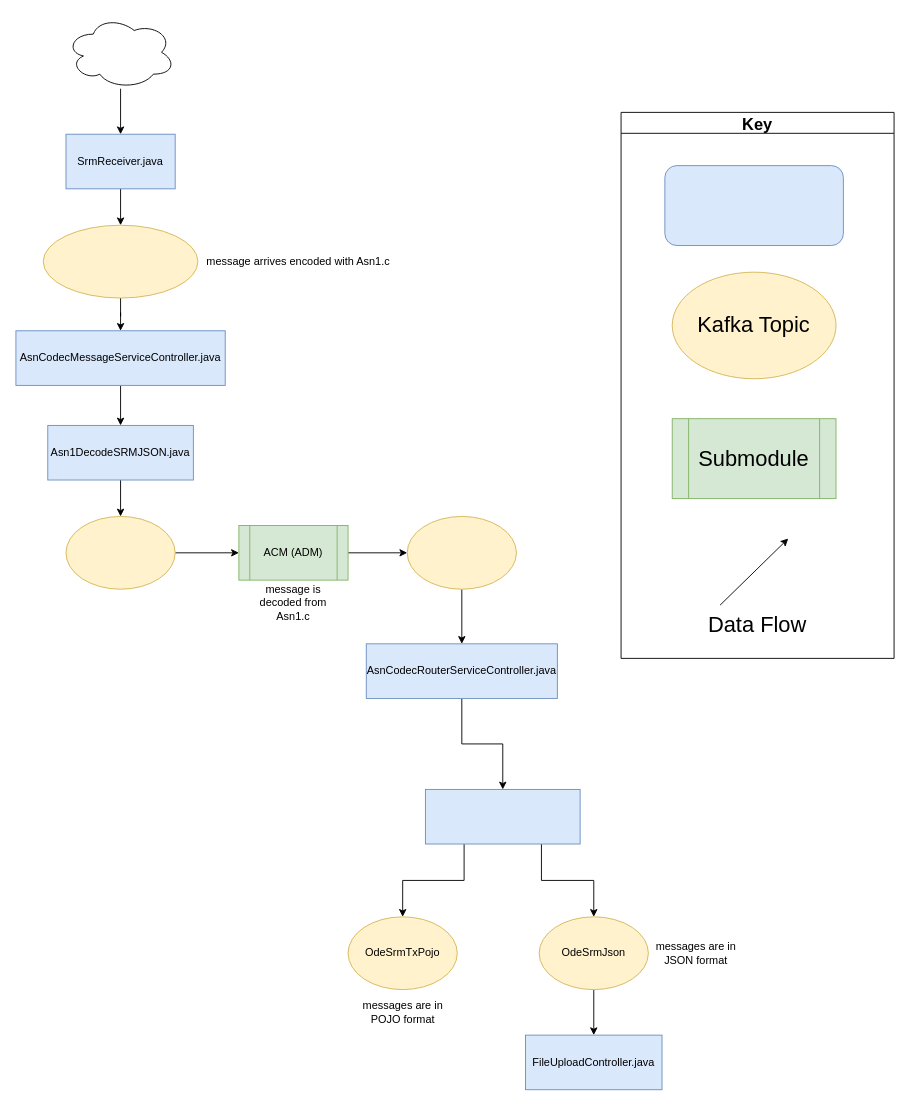
Image size: 910x1106. Some labels were removed from this diagram. The shapes that lost their labels are listed below. From the top down, each one's centre as x and y in pixels, then its label:
At point (753, 205): "ODE Java Class".
At point (120, 261): "OdeRawEncodedSRMJson".
At point (120, 552): "Asn1DecoderInput".
At point (461, 552): "Asn1DecoderOutput".
At point (502, 816): "Asn1DecodedDataRouter.java".
